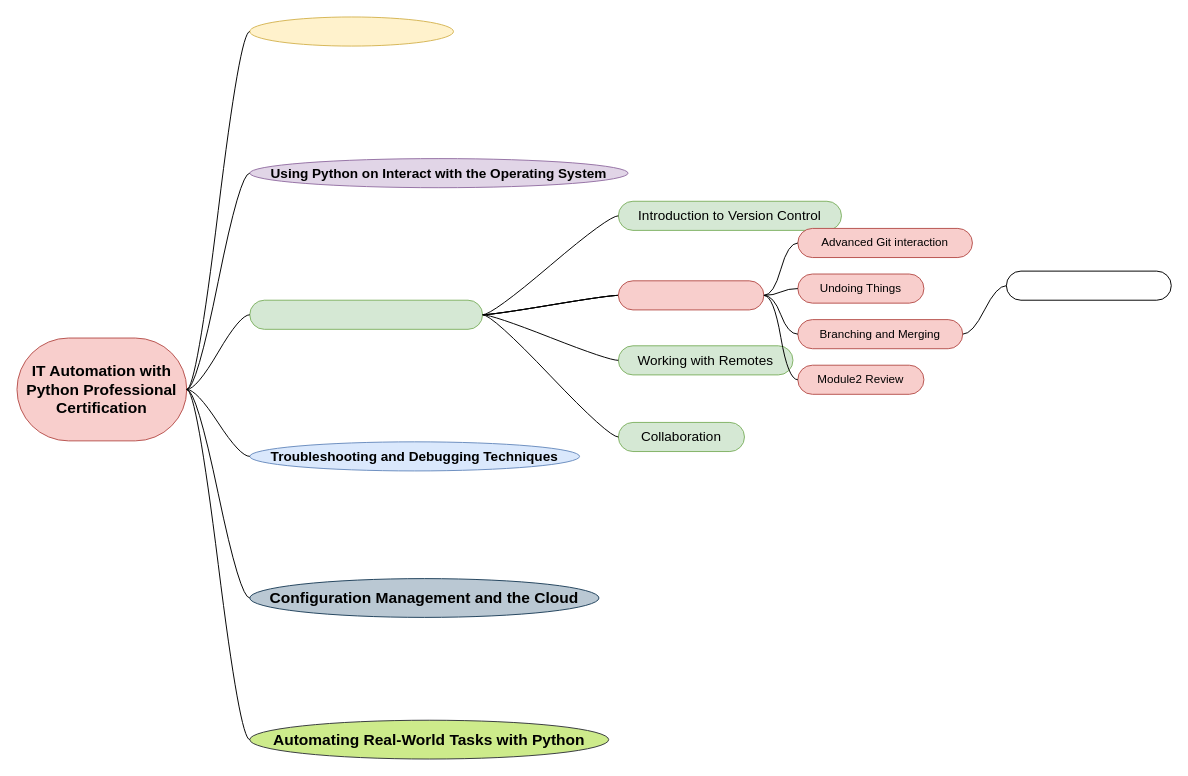
This 1188x776 diagram has some shape labels left out. The centre of each missing label's shape, as x and y in pixels:
"Crash Course on Python" belongs at (x=351, y=31).
"Creating new branches" belongs at (x=1088, y=285).
"Introduction to Git and Github" belongs at (x=366, y=314).
"Using Git Locally" belongs at (x=690, y=295).
